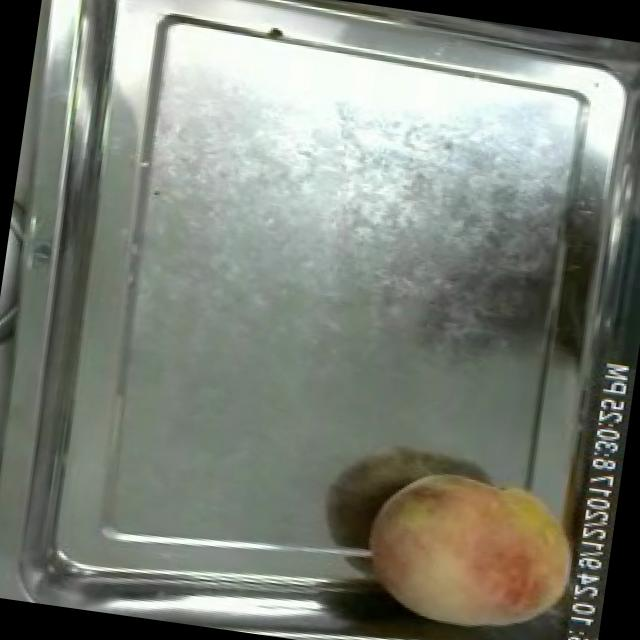Fruit: (350, 450, 598, 640)
